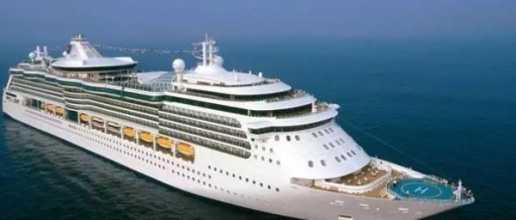youlun: (5, 31, 477, 219)
